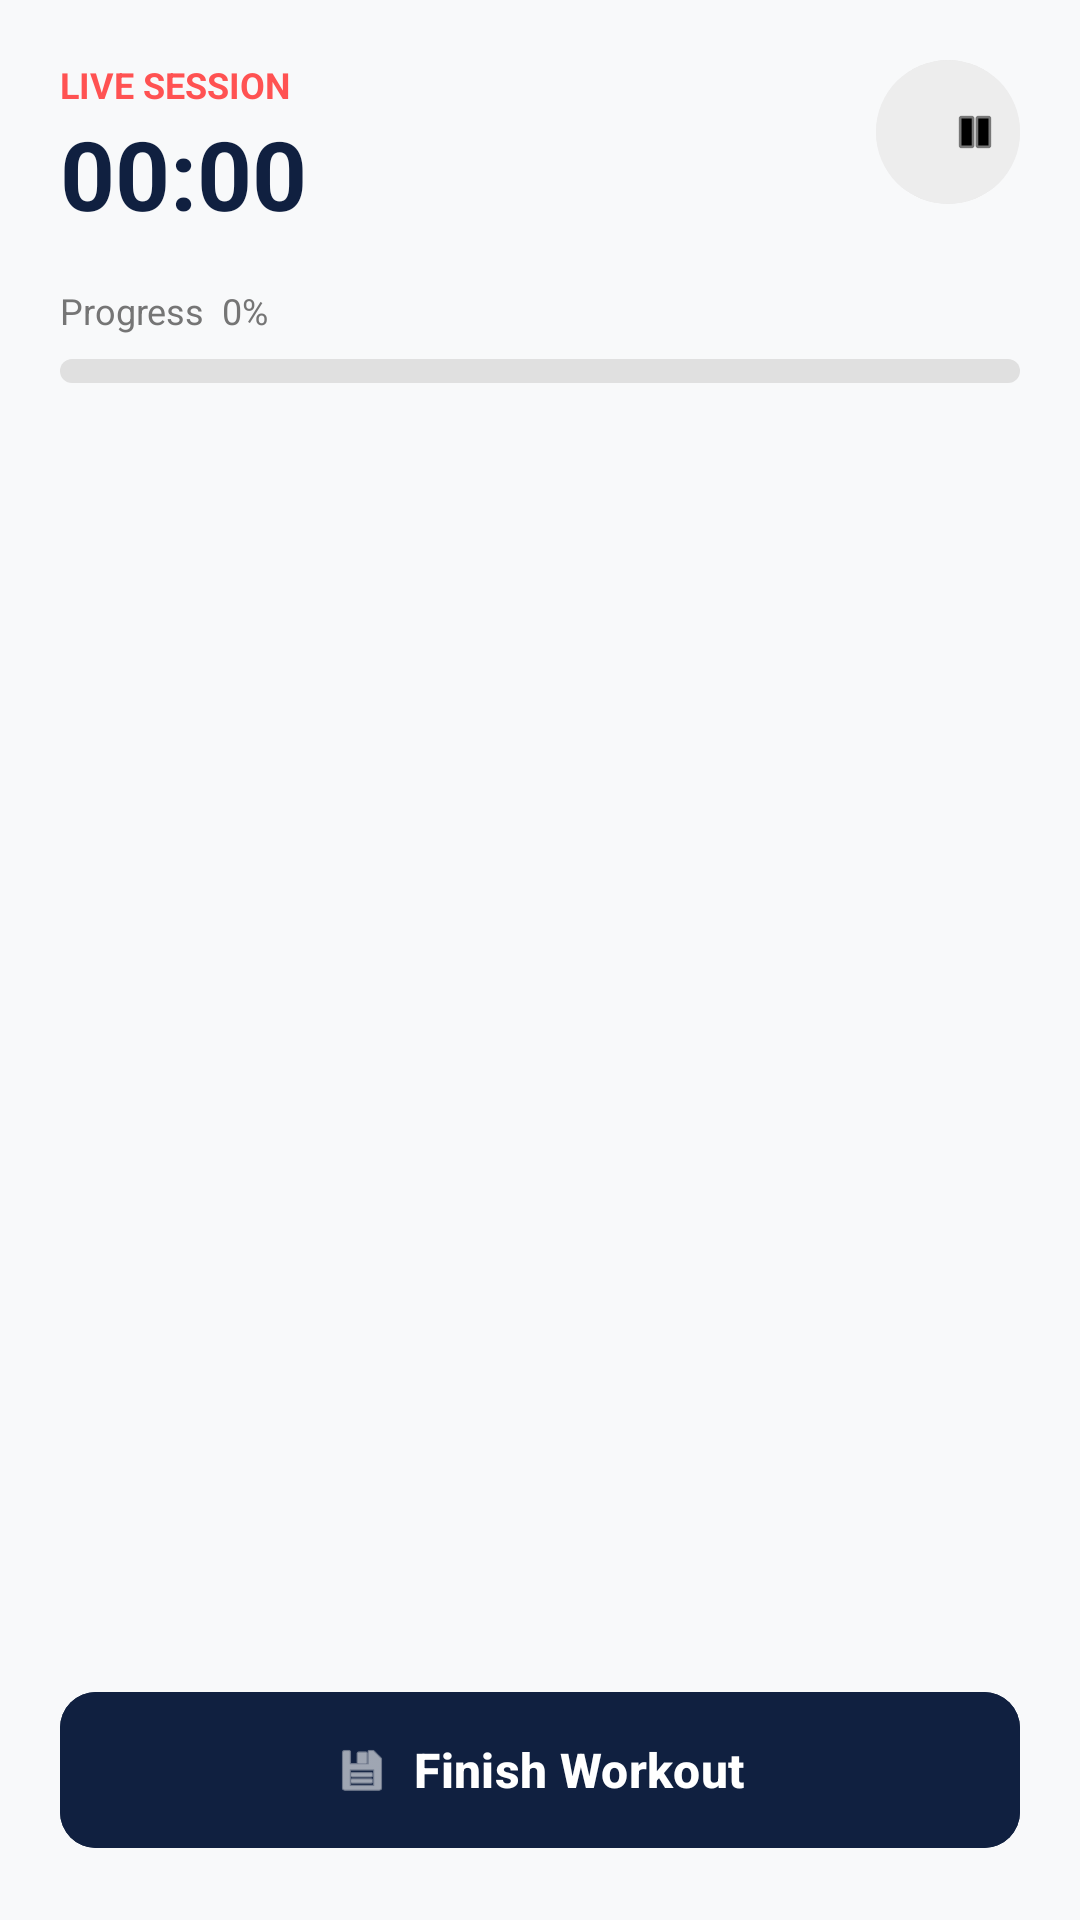

Where to tap for icons on this 1080w x 1920h app screen, as (x,y):
pause: (975,132)
